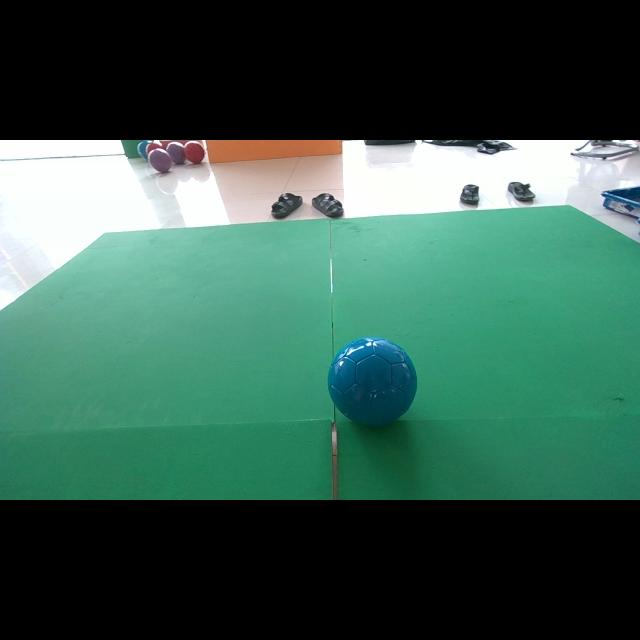B: (328, 338, 418, 426)
P: (148, 149, 172, 172), (166, 141, 186, 164)
R: (184, 140, 205, 164)
